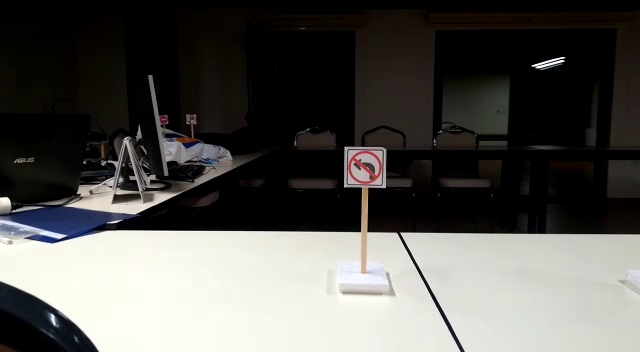sola_donulmez: (346, 147, 384, 185)
